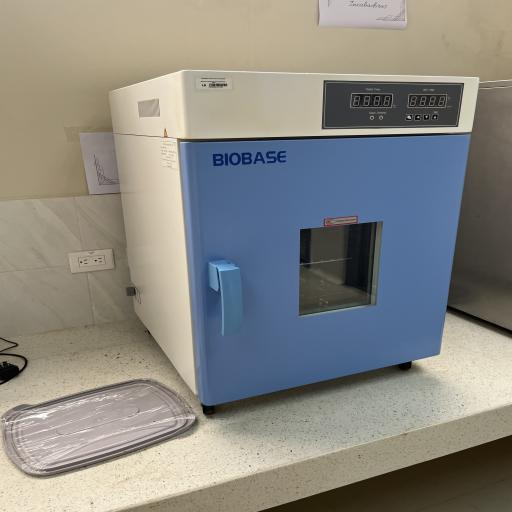Horno_Secado_Biobase: (90, 64, 484, 420)
